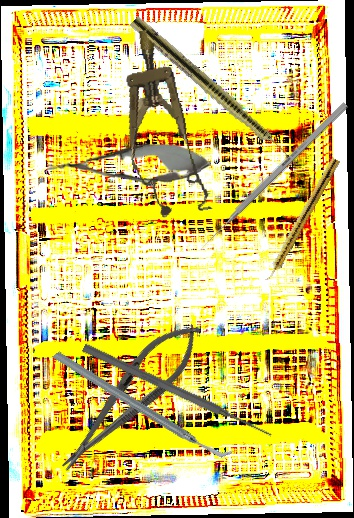Chopper: (51, 301, 235, 507)
Handpiece: (127, 14, 301, 169), (261, 155, 341, 285)
Micro Scissor: (46, 140, 212, 188)
Needle Holder: (45, 308, 215, 485)
Pusher: (196, 100, 349, 254), (80, 341, 275, 442)
Speculum: (107, 23, 214, 223)
